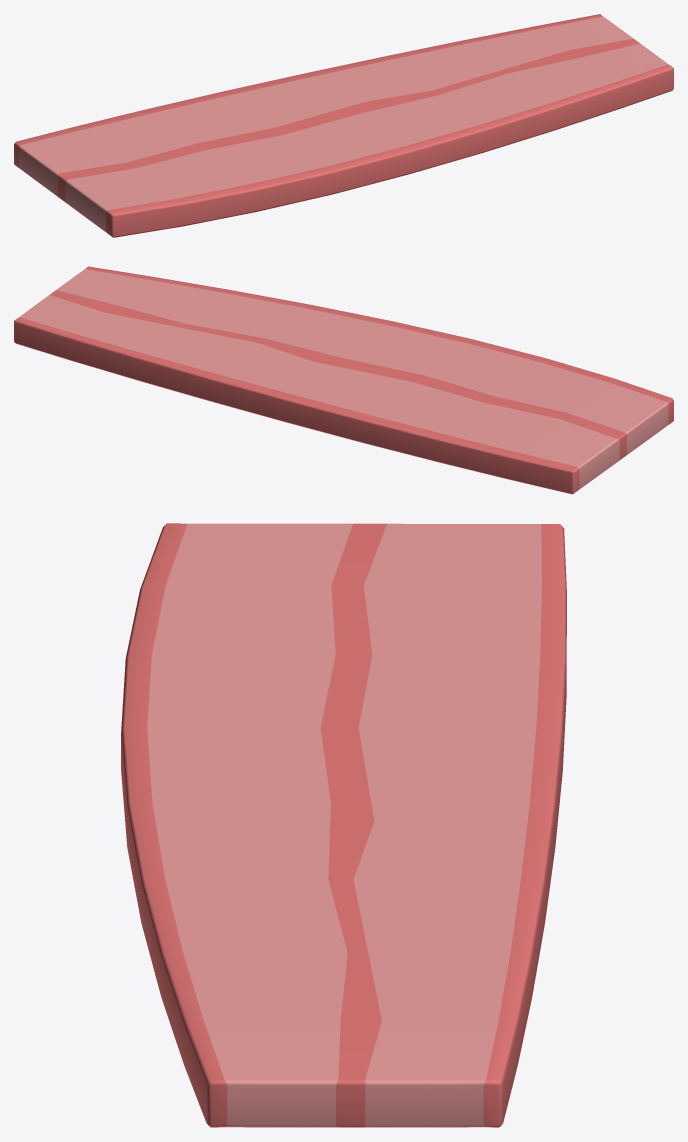
File: Sardine_1_Fillet_2.fbx
The picture shows the model from 3 angles, top to bottom: view 1: azimuth 30°, elevation 25°; view 2: azimuth 150°, elevation 25°; view 3: azimuth 270°, elevation 25°; orthographic projection. The views are drawn at different scales.
Visible parts, largest first — view 1: Sardine_1_Fillet_2; view 2: Sardine_1_Fillet_2; view 3: Sardine_1_Fillet_2.
Boxes of the visible parts, x1,y1,x2,y2 form: Sardine_1_Fillet_2: (14,14,673,237); Sardine_1_Fillet_2: (14,266,673,494); Sardine_1_Fillet_2: (121,523,566,1127).
Bounding box in the file's own units: 15.07 × 0.6014 × 5.07.
